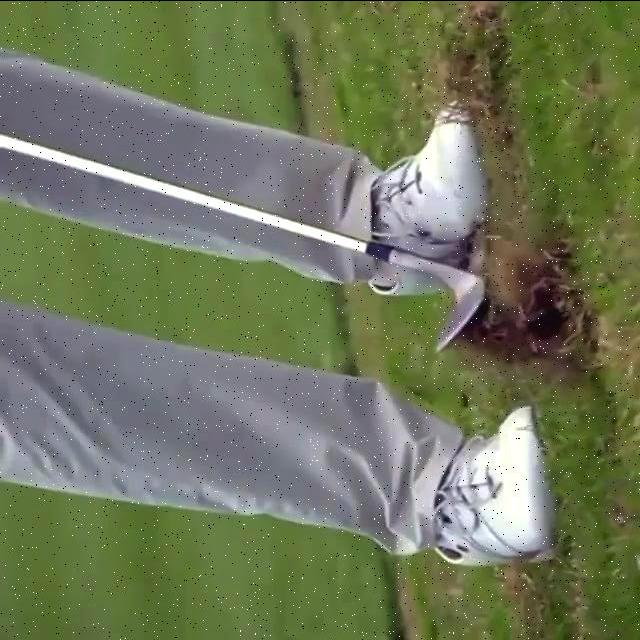golf club-handle: (0, 131, 481, 354)
golf club-head: (434, 272, 483, 352)
